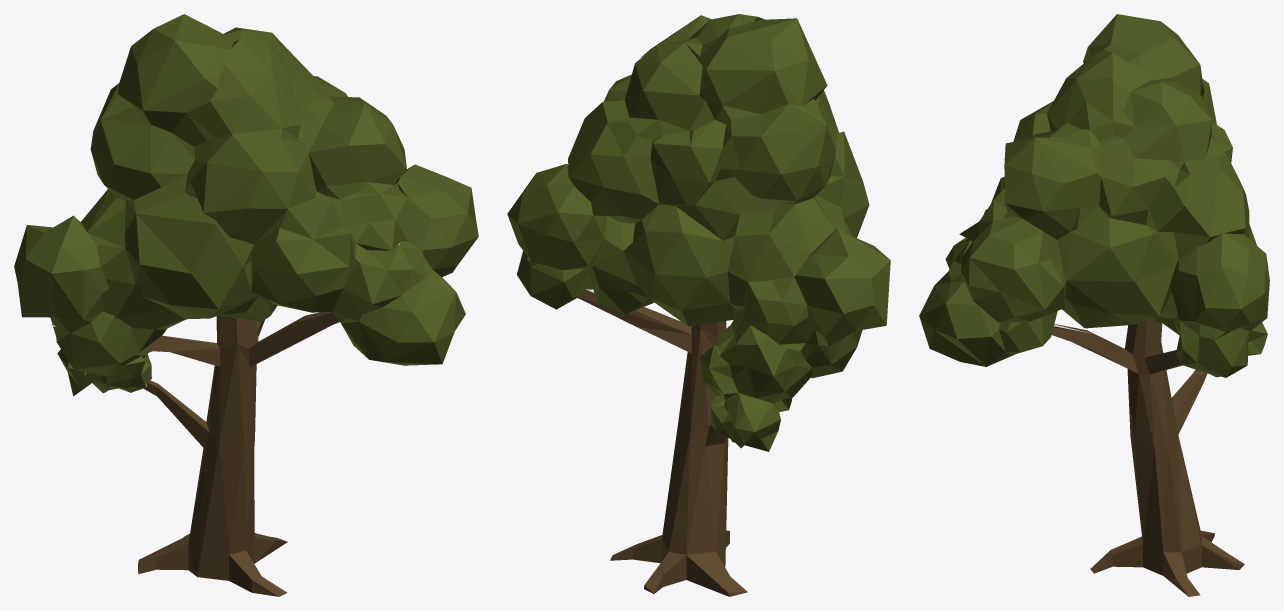
The model's file is tree.fbx.
3 renders of one model, left to right at view 1: azimuth 30°, elevation 25°; view 2: azimuth 150°, elevation 25°; view 3: azimuth 270°, elevation 25°, orthographic. The views are drawn at different scales.
Parts seen in each view (by area): view 1: Tree; view 2: Tree; view 3: Tree.
Boxes of the visible parts, x1,y1,x2,y2 form: Tree: [14, 14, 478, 596]; Tree: [507, 14, 890, 596]; Tree: [919, 14, 1269, 596].
Bounding box in the file's own units: 642 × 1040 × 697.
